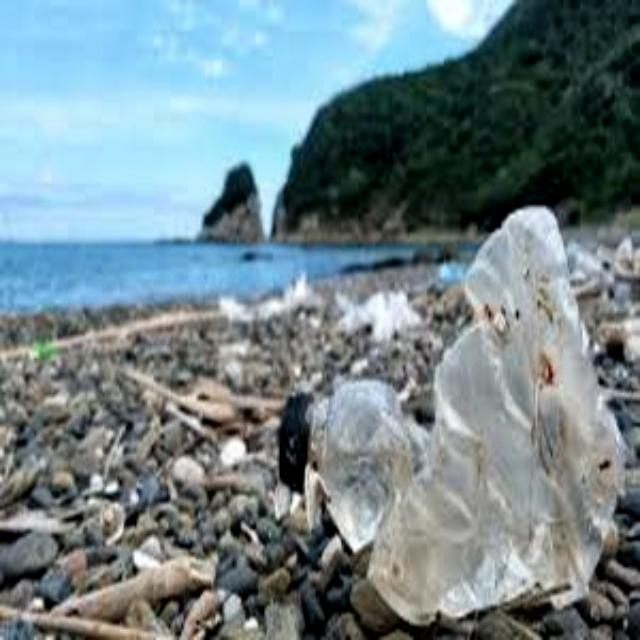Plastic: (276, 197, 628, 626)
